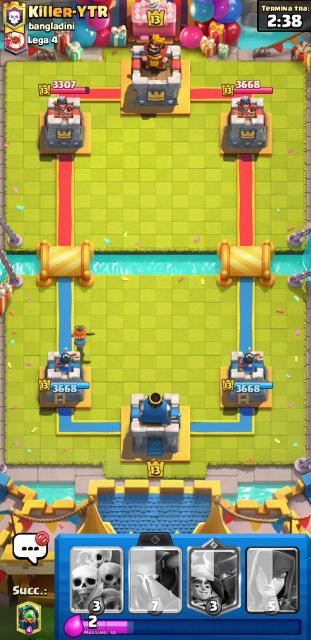ally_melee: (70, 325, 87, 353)
